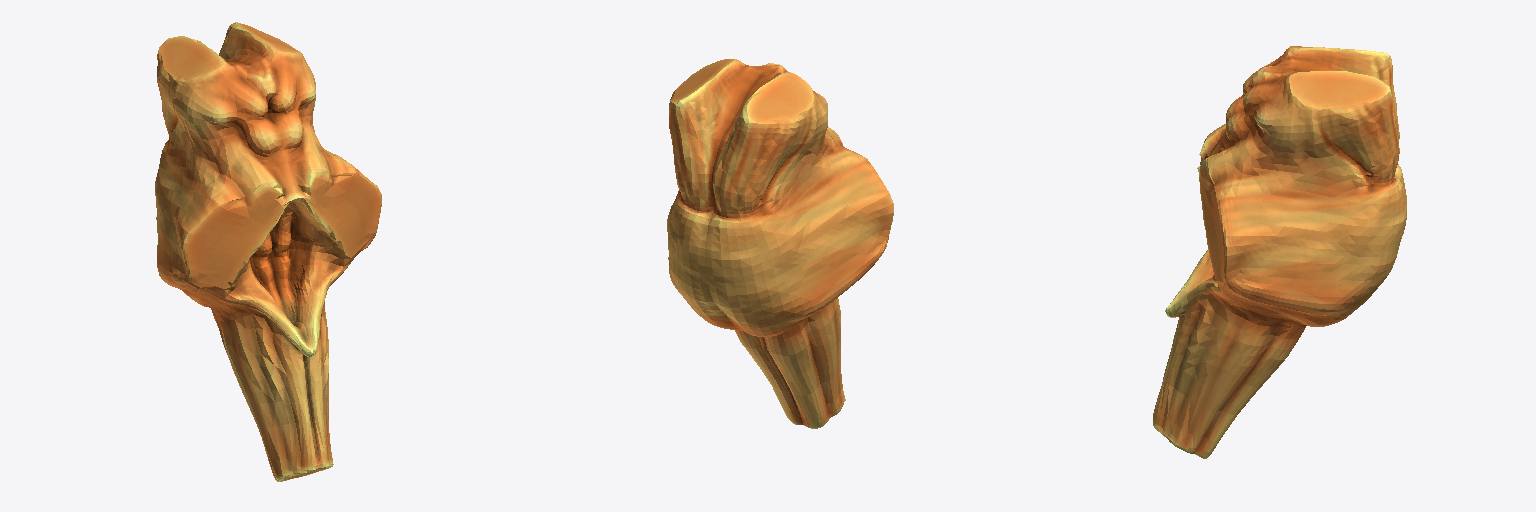
3 views of the same model, side by side, from view 1: azimuth 30°, elevation 25°; view 2: azimuth 150°, elevation 25°; view 3: azimuth 270°, elevation 25° (orthographic).
Visible parts, largest first — view 1: ZBrush_defualt_group; view 2: ZBrush_defualt_group; view 3: ZBrush_defualt_group.
Boxes of the visible parts, box(x1,y1,x2,y2) form: ZBrush_defualt_group: box(155, 22, 381, 481); ZBrush_defualt_group: box(667, 59, 893, 428); ZBrush_defualt_group: box(1153, 46, 1406, 458).
Size of the model in its own units: 484 by 912 by 535.
Materials: 1 (1 with a texture image).